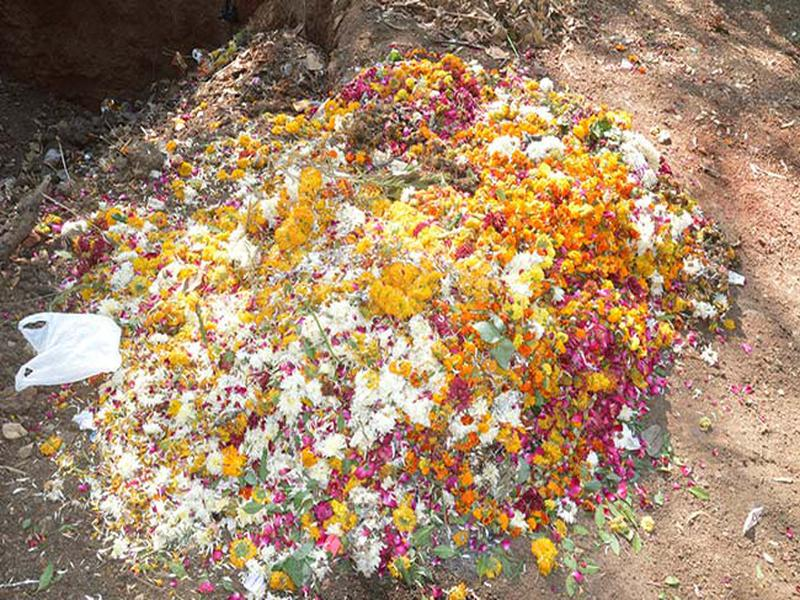flowers: (57, 54, 750, 600)
plastic: (8, 294, 127, 394)
